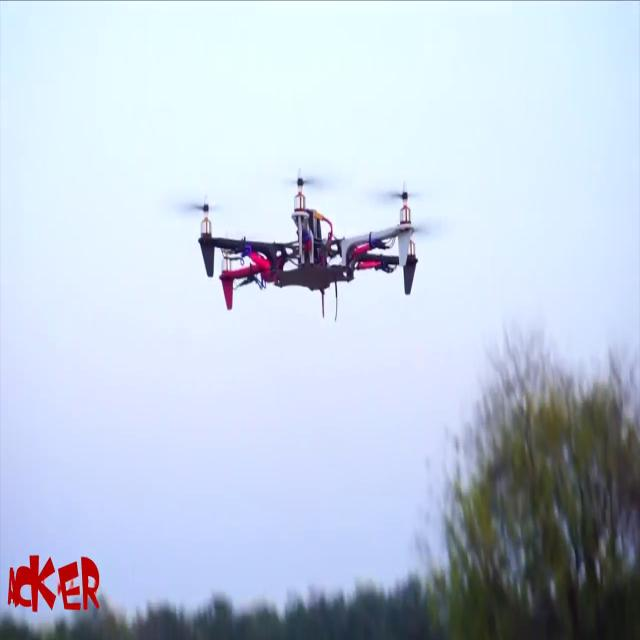drone: (180, 166, 438, 326)
